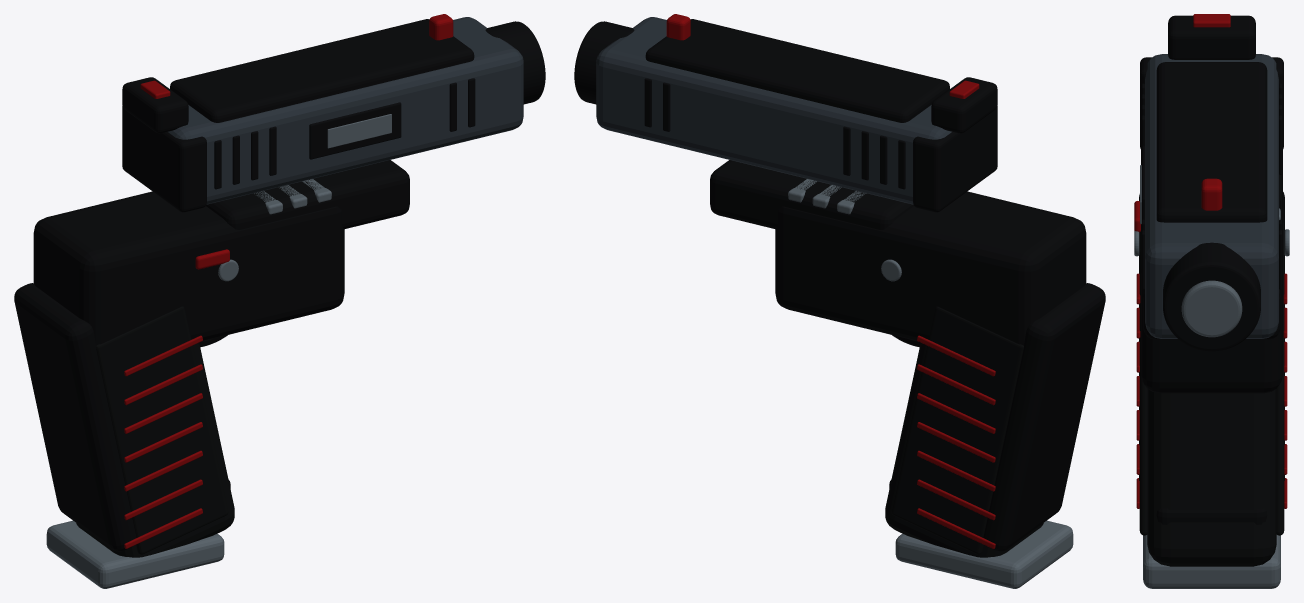
The model's file is rivals_pistol.obj.
3 views of the same model, side by side, from view 1: azimuth 30°, elevation 25°; view 2: azimuth 150°, elevation 25°; view 3: azimuth 270°, elevation 25° (orthographic). The views are drawn at different scales.
Visible parts, largest first — view 1: Frame, Slide, Grip_Panel_Left, Grip_Backstrap, Slide_Top, Frame_Dust_Cover, Slide_Rear, Magazine_Base, Grip_Core, Rear_Sight, Ejection_Port, Muzzle (+1 smaller); view 2: Frame, Slide, Grip_Panel_Right, Grip_Backstrap, Slide_Top, Frame_Dust_Cover, Slide_Rear, Magazine_Base, Grip_Core, Rear_Sight, Muzzle; view 3: Grip_Core, Slide_Top, Slide, Frame, Muzzle, Magazine_Base, Rear_Sight, Barrel, Grip_Panel_Right, Grip_Panel_Left, Magazine_Well, Front_Sight (+7 smaller).
Part boxes in pixels (x1,y1,x2,y2): Frame: (33,191,344,357); Slide: (168,17,523,204); Grip_Panel_Left: (96,306,228,554); Grip_Backstrap: (14,283,136,551); Slide_Top: (170,19,474,122); Frame_Dust_Cover: (206,160,409,229); Slide_Rear: (122,106,206,212); Magazine_Base: (46,520,224,588); Grip_Core: (76,343,234,557); Rear_Sight: (122,77,188,133); Ejection_Port: (309,102,401,159); Muzzle: (485,21,545,104); Frame: (775,191,1086,357); Slide: (596,17,951,204); Grip_Panel_Right: (891,306,1023,554); Grip_Backstrap: (983,283,1105,551); Slide_Top: (645,19,949,122); Frame_Dust_Cover: (710,160,913,229); Slide_Rear: (913,106,997,212); Magazine_Base: (895,520,1073,588); Grip_Core: (885,343,1043,557); Rear_Sight: (931,77,997,133); Muzzle: (574,21,634,104); Grip_Core: (1147,389,1276,566); Slide_Top: (1156,62,1267,222); Slide: (1145,54,1278,338); Frame: (1141,150,1282,393); Muzzle: (1163,242,1260,351); Magazine_Base: (1143,535,1280,588); Rear_Sight: (1168,15,1255,59); Barrel: (1181,280,1242,337); Grip_Panel_Right: (1276,222,1284,535); Grip_Panel_Left: (1139,231,1147,535); Magazine_Well: (1156,508,1267,524); Front_Sight: (1201,178,1222,210).
Bounding box in the file's own units: 3.21 × 2.91 × 0.745.
